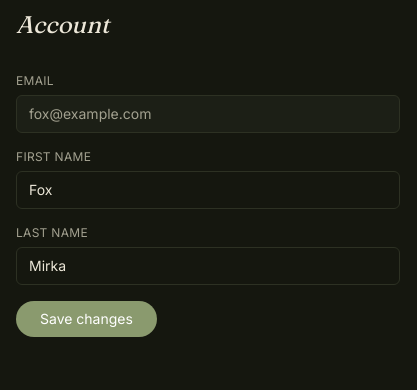
Test: AccountPage › saves and refreshes on valid input
Click the button "Save changes". click: coordinates (86, 319)
box: [16, 301, 157, 337]
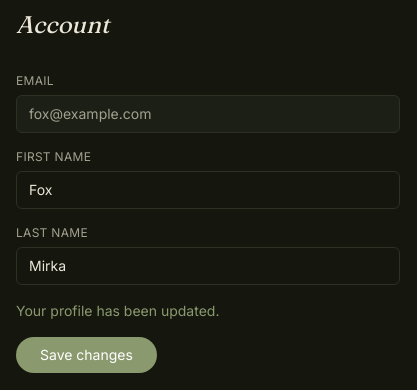
Now the text "Your profile has been updated." is shown, box [16, 302, 220, 319]
